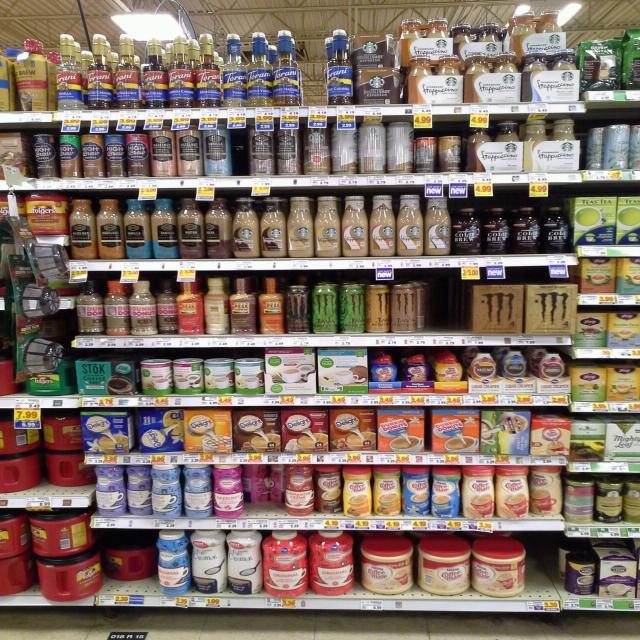empty: (422, 264, 477, 343), (527, 530, 567, 601), (223, 121, 254, 184)
